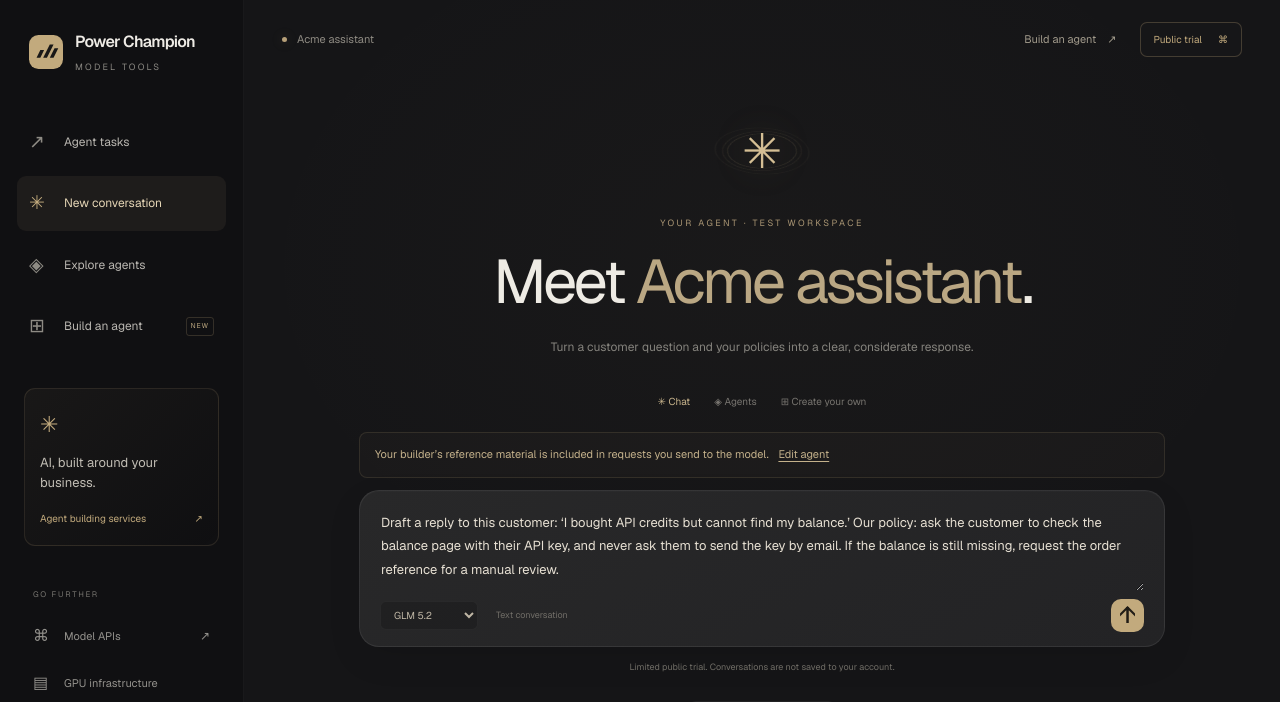
Test: Model chat tools › loads a bounded builder draft and includes its knowledge only on send
Check: the heading "Meet Acme assistant." is shown, box x1=493 y1=241 x2=1031 y2=321
Check: the button "Public trial ⌘" is shown, box x1=1140 y1=22 x2=1242 y2=56
What coordinates should you click on to do the following:
click the button named "Send message"
I would click on:
 (1128, 615)
Its box is x1=1111 y1=599 x2=1144 y2=632.
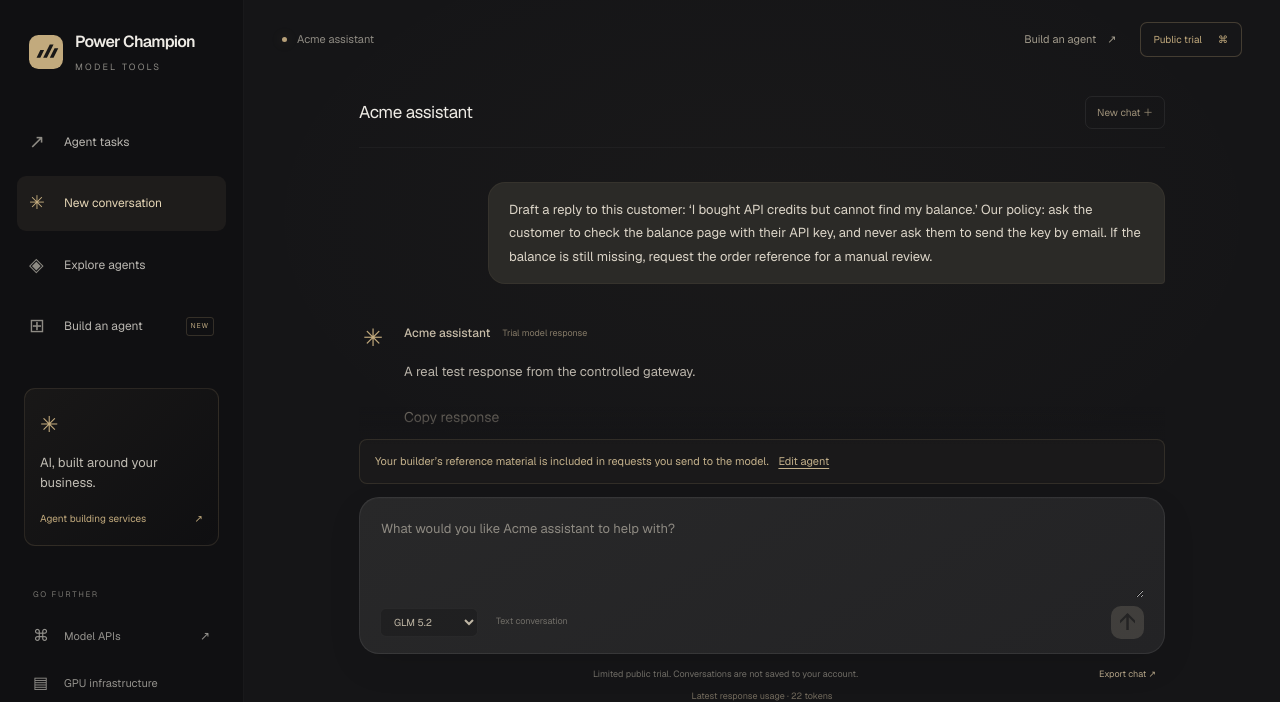
Check: the text "A real test response from the controlled gateway." is shown, box x1=404 y1=363 x2=695 y2=380
